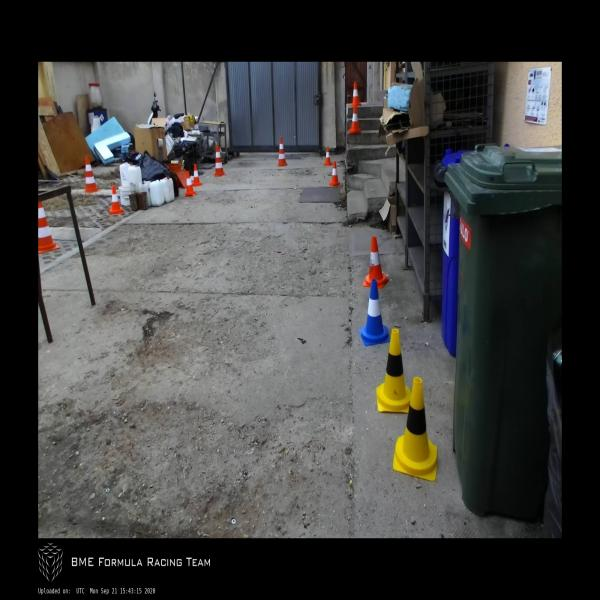blue_cone: (358, 277, 390, 347)
large_orange_cone: (38, 195, 60, 253), (82, 154, 99, 192), (213, 144, 226, 176), (277, 136, 288, 167)
orange_cone: (363, 236, 389, 290), (108, 185, 124, 214), (348, 105, 362, 134), (185, 170, 196, 197), (191, 163, 203, 186), (350, 81, 361, 106), (329, 162, 340, 186), (323, 146, 333, 166)
yellow_cone: (393, 378, 438, 480), (376, 330, 412, 413)
